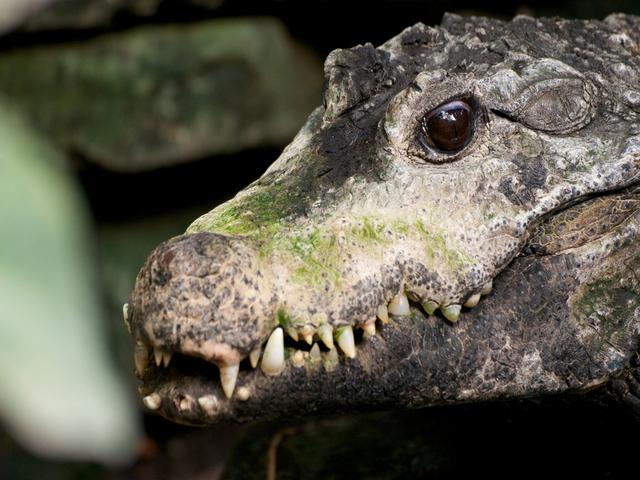crocodile: (108, 9, 625, 450)
